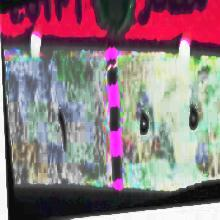1: (56, 101, 70, 157)
haa: (182, 97, 201, 149), (134, 98, 152, 144)
